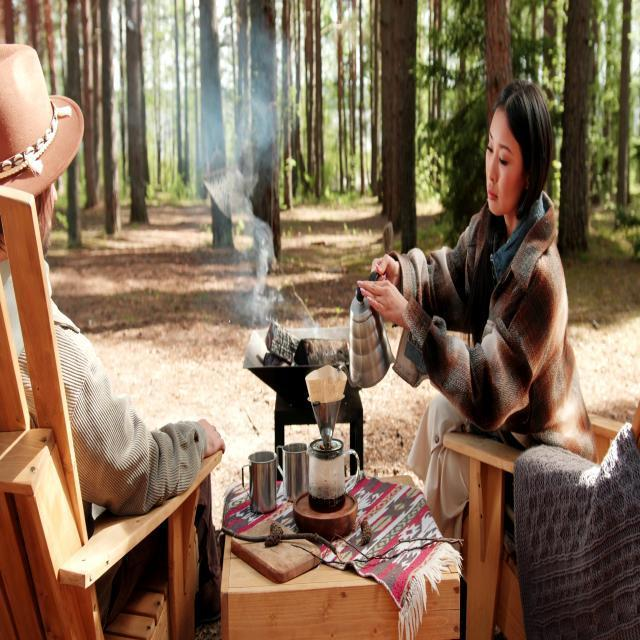Smoke: (178, 26, 304, 320)
